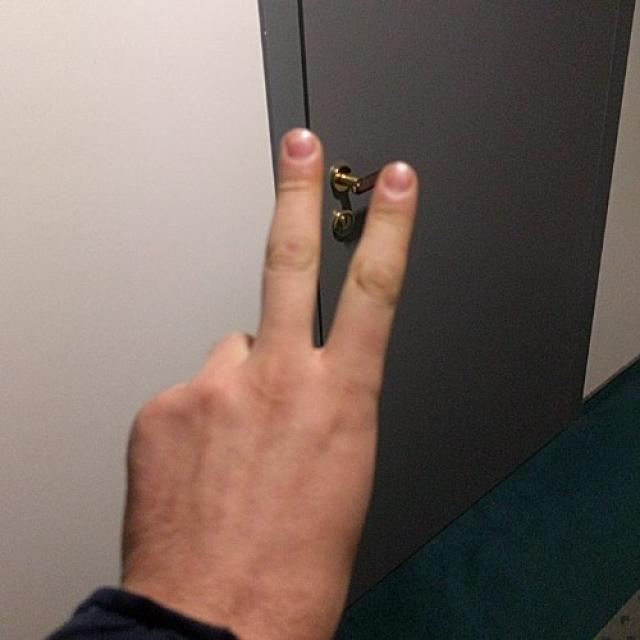scissors: (118, 125, 423, 579)
